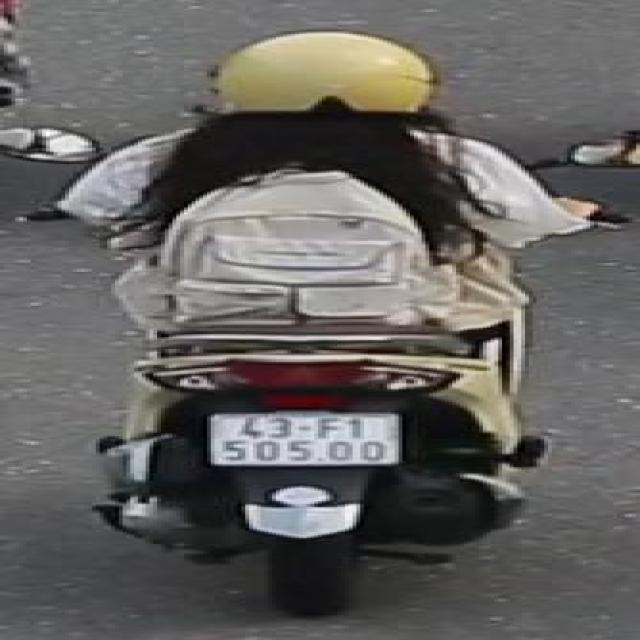LP: (203, 406, 414, 468)
helmet: (203, 29, 460, 119)
